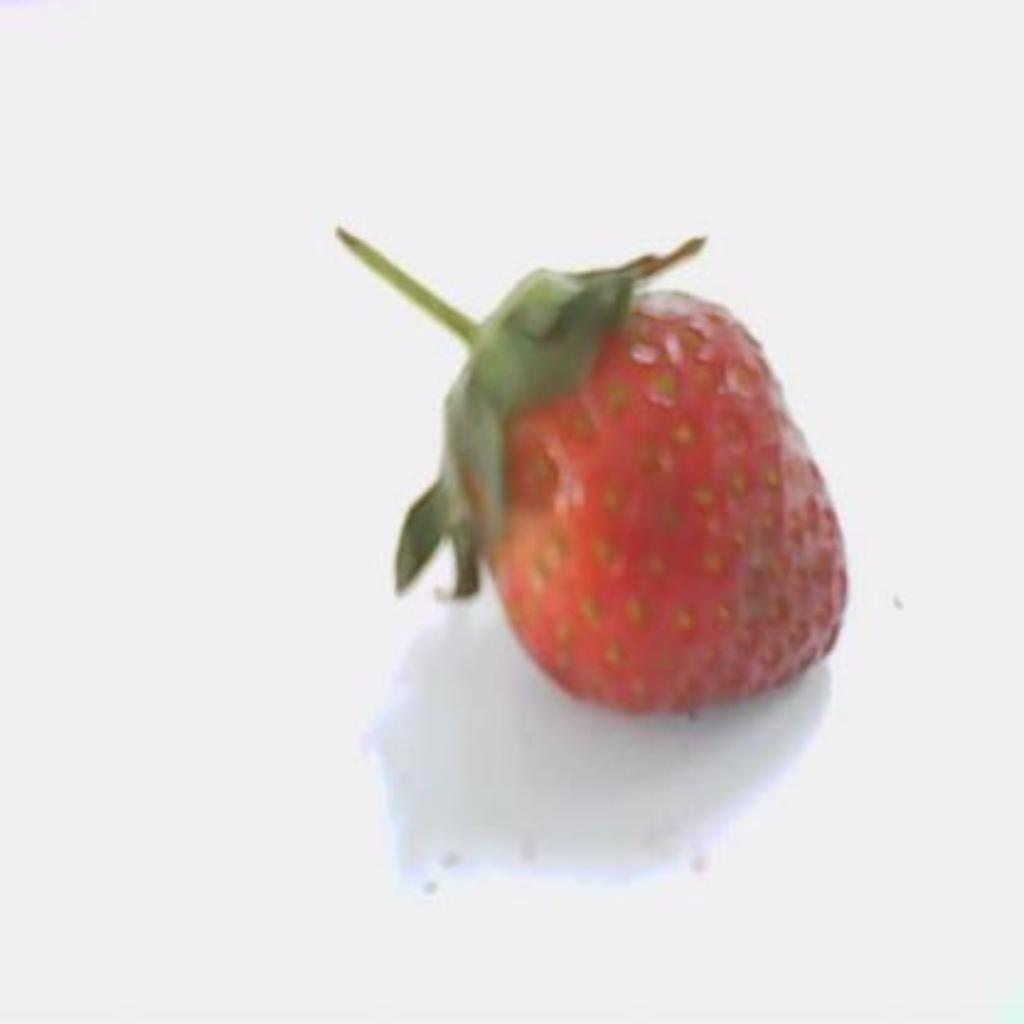strawberry: (339, 228, 846, 711)
